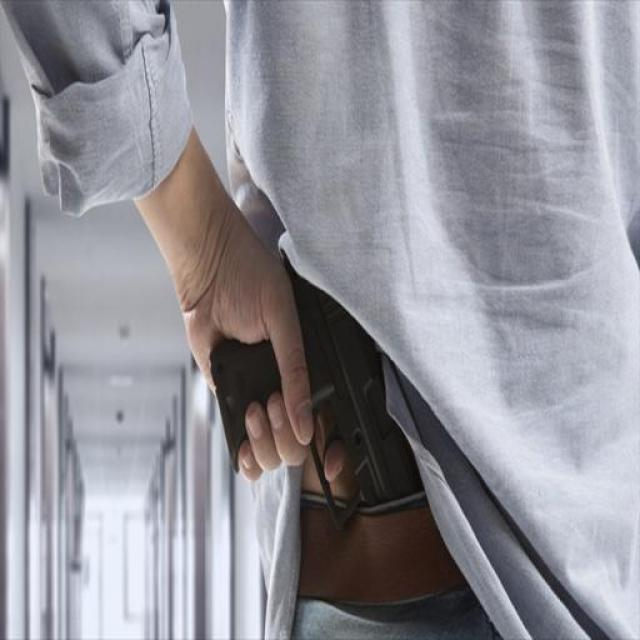pistol: (206, 242, 447, 542)
